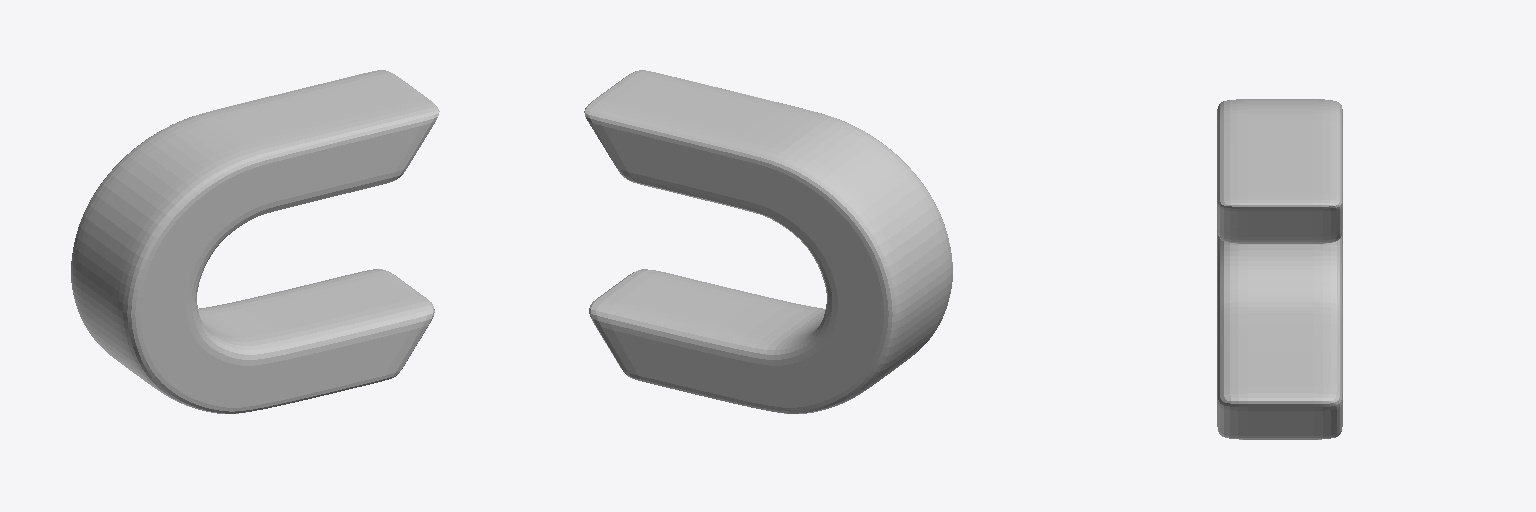
3 views of the same model, side by side, from view 1: azimuth 30°, elevation 25°; view 2: azimuth 150°, elevation 25°; view 3: azimuth 270°, elevation 25° (orthographic).
Visible parts, largest first — view 1: polySurface16 text2FixedOneObjectNewNoHistory:pasted__T1; view 2: polySurface16 text2FixedOneObjectNewNoHistory:pasted__T1; view 3: polySurface16 text2FixedOneObjectNewNoHistory:pasted__T1.
Boxes of the visible parts, <box> form: polySurface16 text2FixedOneObjectNewNoHistory:pasted__T1: <box>71,70,439,413</box>; polySurface16 text2FixedOneObjectNewNoHistory:pasted__T1: <box>584,70,952,413</box>; polySurface16 text2FixedOneObjectNewNoHistory:pasted__T1: <box>1217,99,1342,439</box>.
Bounding box in the file's own units: 496 × 389 × 170.